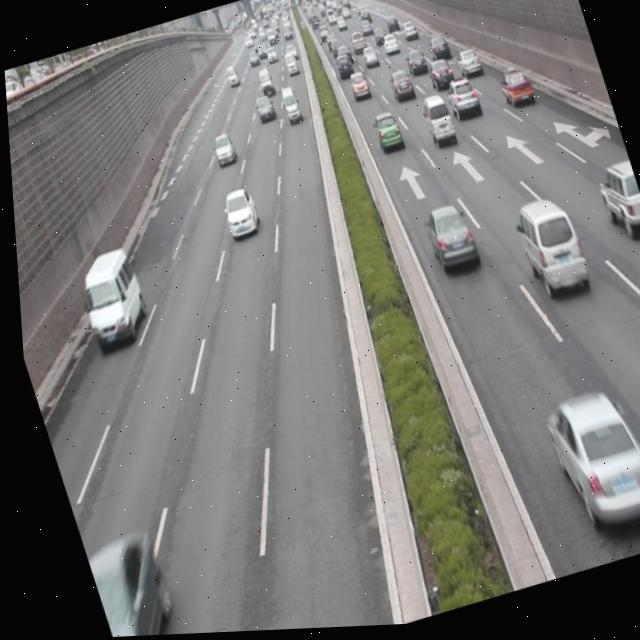car: (532, 388, 640, 541), (76, 531, 178, 638), (416, 204, 477, 282), (588, 160, 640, 246), (213, 186, 260, 244), (440, 79, 480, 128), (492, 69, 531, 115), (366, 112, 402, 158), (422, 59, 452, 97), (384, 71, 414, 107), (206, 134, 235, 167), (452, 51, 481, 83)
truck: (505, 198, 588, 311), (67, 245, 149, 350), (416, 97, 456, 155)
